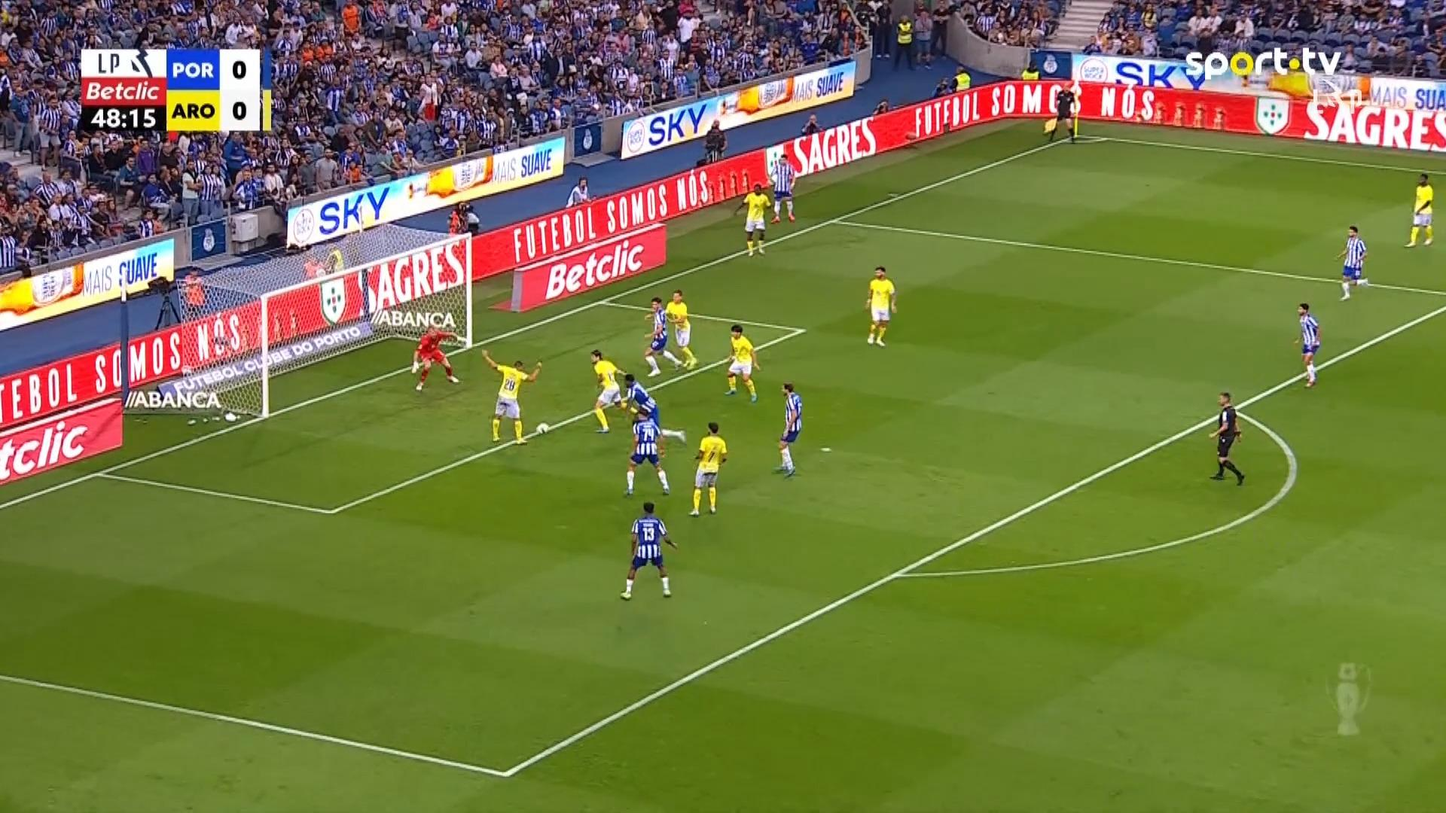ball: (535, 422, 548, 434)
goalkeeper: (410, 324, 463, 391)
player: (480, 347, 542, 445), (619, 501, 678, 600), (621, 372, 687, 445), (623, 406, 670, 496), (688, 421, 728, 516), (643, 296, 685, 376), (589, 349, 627, 433), (723, 323, 761, 403), (733, 182, 773, 256), (774, 382, 803, 477), (863, 265, 897, 346), (664, 289, 697, 370), (1335, 224, 1369, 300), (1293, 302, 1322, 388), (1403, 172, 1434, 247), (767, 153, 797, 223)
referee: (1207, 391, 1245, 485), (1042, 81, 1080, 142)
